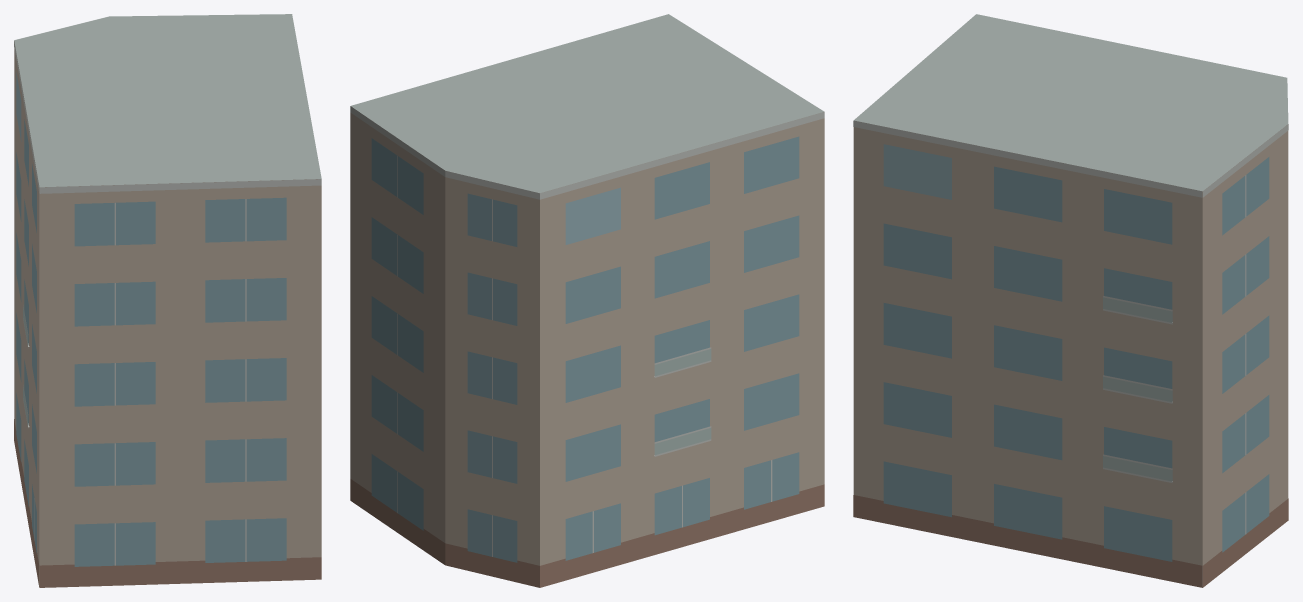
The model's file is survey-upis-32654086.glb.
3 renders of one model, left to right at view 1: azimuth 30°, elevation 25°; view 2: azimuth 150°, elevation 25°; view 3: azimuth 270°, elevation 25°, orthographic.
Parts seen in each view (by area): view 1: survey-upis-32654086.tmp; view 2: survey-upis-32654086.tmp; view 3: survey-upis-32654086.tmp.
Boxes of the visible parts, x1=… form: survey-upis-32654086.tmp: x1=14, y1=14, x2=321, y2=587; survey-upis-32654086.tmp: x1=350, y1=14, x2=824, y2=587; survey-upis-32654086.tmp: x1=853, y1=14, x2=1288, y2=587.
Bounding box in the file's own units: 14.25 × 14.85 × 14.77.
